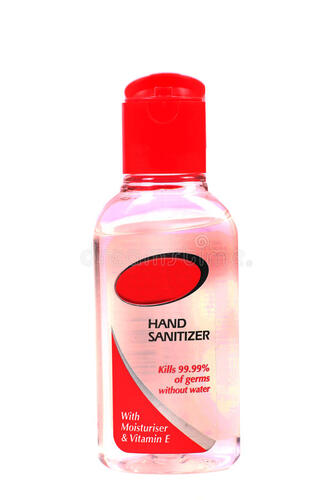handsanitizer: (91, 70, 245, 474)
